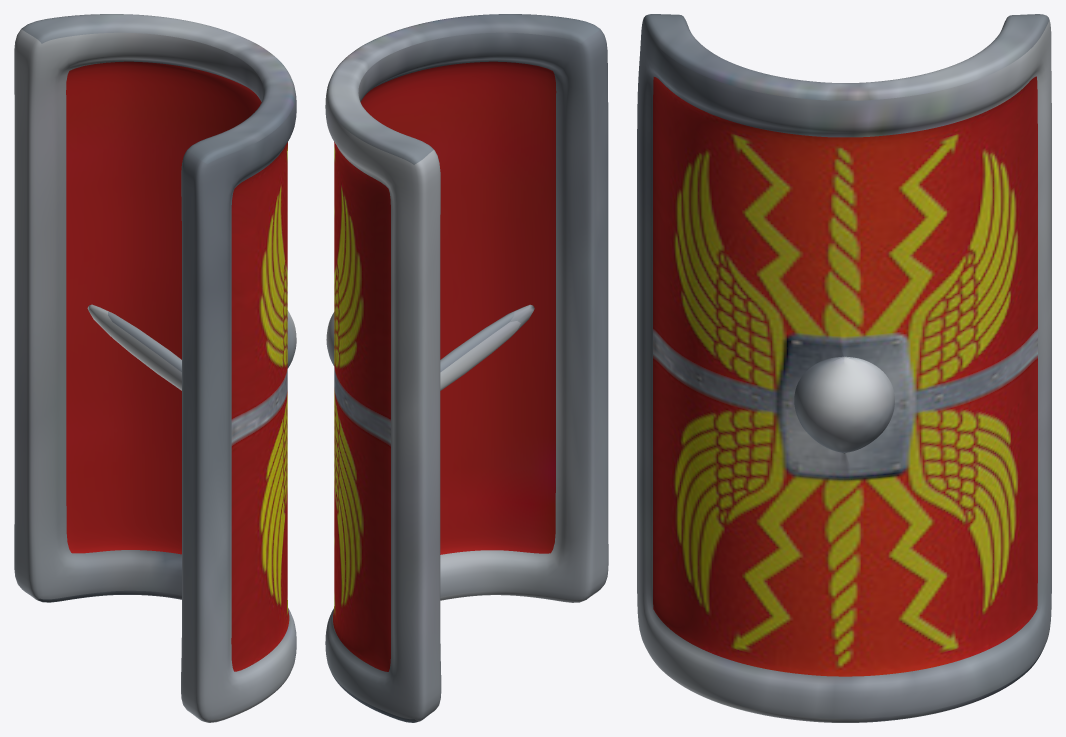
Rendered from Escudo 3.fbx.
The picture shows the model from 3 angles, left to right: view 1: azimuth 30°, elevation 25°; view 2: azimuth 150°, elevation 25°; view 3: azimuth 270°, elevation 25°; orthographic projection. The views are drawn at different scales.
Parts seen in each view (by area): view 1: Cylinder; view 2: Cylinder; view 3: Cylinder.
Part boxes in pixels (x1=…): Cylinder: x1=14, y1=14, x2=296, y2=722; Cylinder: x1=325, y1=14, x2=608, y2=722; Cylinder: x1=637, y1=14, x2=1051, y2=722.
Bounding box in the file's own units: 139 × 410 × 244.
Materials: 1 (1 with a texture image).
